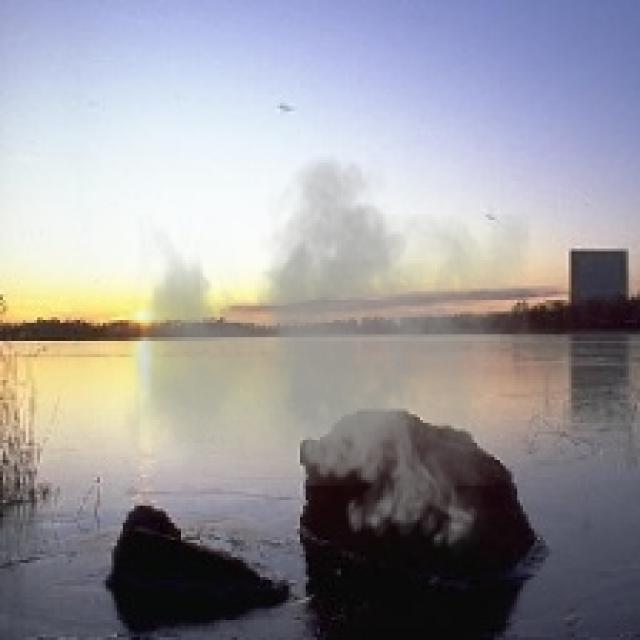smoke: (123, 140, 531, 560)
